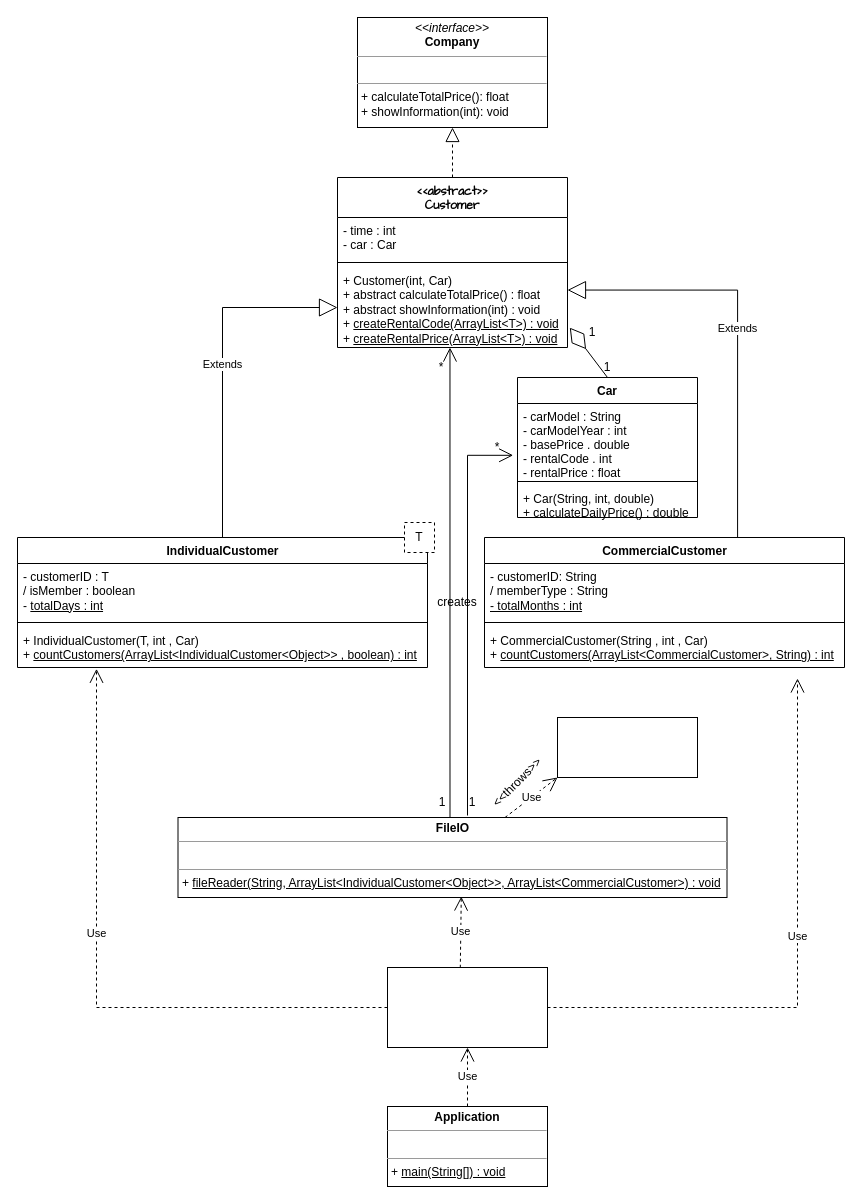
Image size: 862x1204. Some labels were removed from this diagram. Each missing label, with the centre of its shape:
<<exception>> InvalidIDException: (x=627, y=747)
Simulation + run(): void: (x=467, y=1007)
